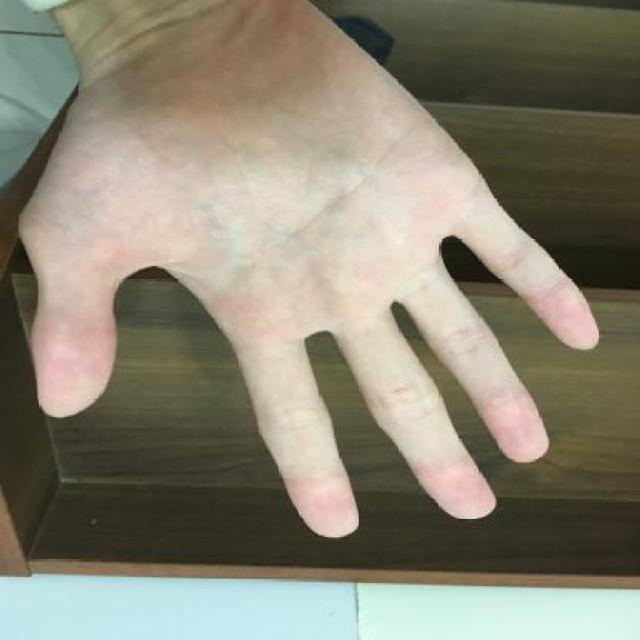bare_hand: (8, 2, 630, 556)
